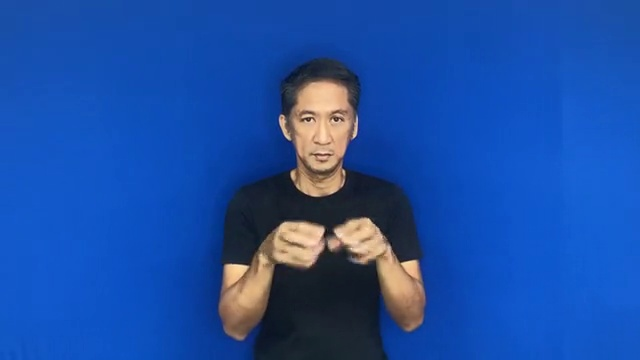egg: (256, 204, 394, 279)
